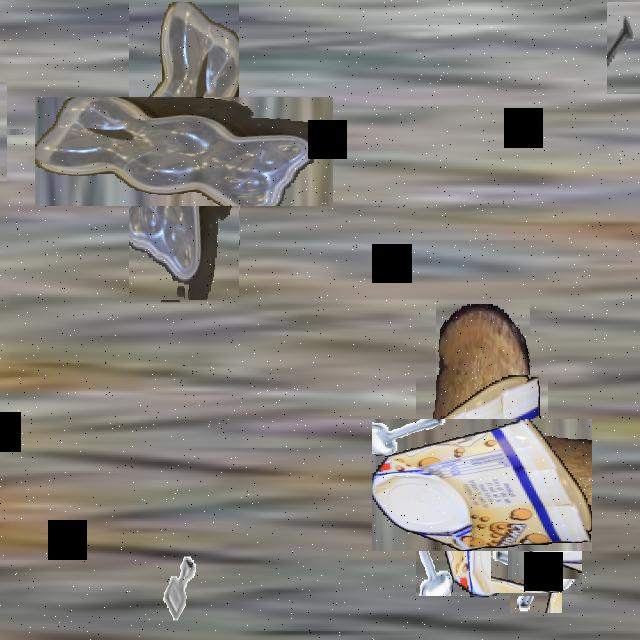metal: (500, 531, 572, 603), (155, 542, 205, 631), (607, 2, 640, 94), (0, 104, 30, 158)
plastic: (82, 49, 286, 253), (394, 397, 570, 574)
wood: (436, 304, 530, 489)
